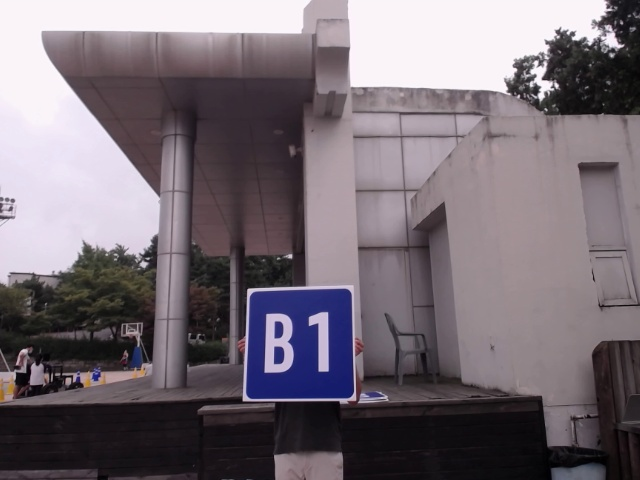delivery_b1: (244, 286, 355, 401)
